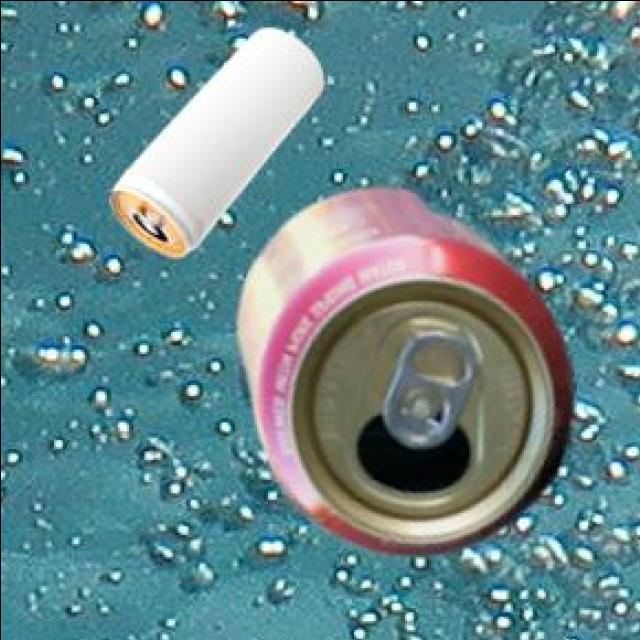logam: (239, 184, 575, 553), (114, 23, 326, 253)
